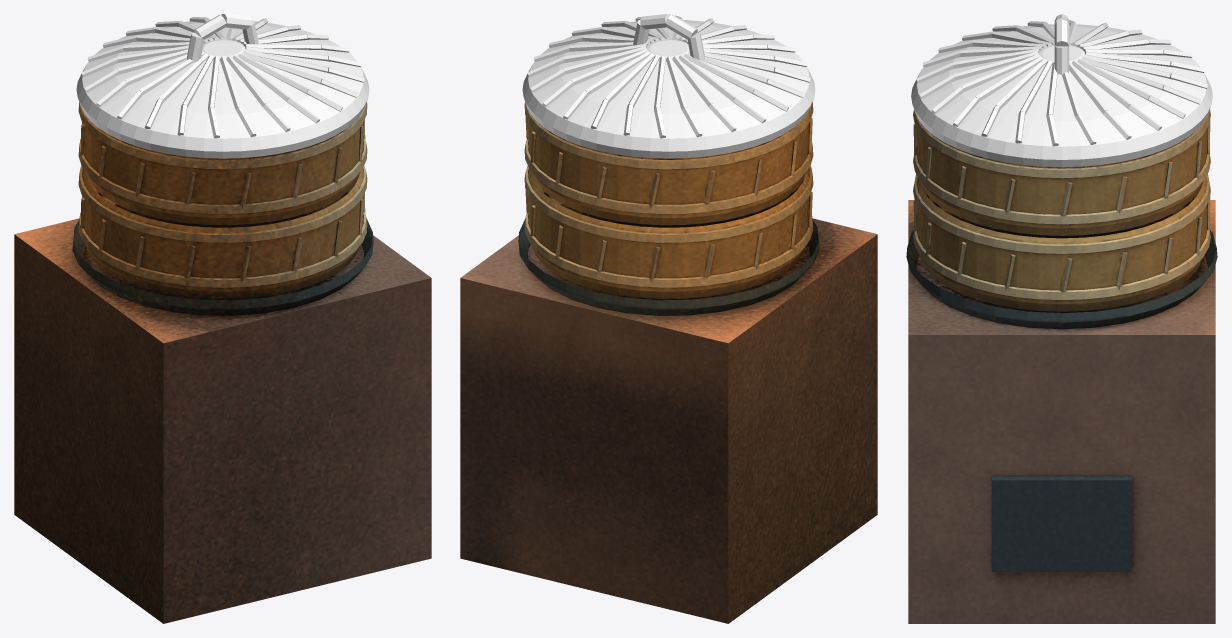
The model's file is steamer.glb.
3 views of the same model, side by side, from view 1: azimuth 30°, elevation 25°; view 2: azimuth 150°, elevation 25°; view 3: azimuth 270°, elevation 25° (orthographic). The views are drawn at different scales.
Parts seen in each view (by area): view 1: SteamerHearth, SteamerLid; view 2: SteamerHearth, SteamerLid; view 3: SteamerHearth, SteamerLid.
Part boxes in pixels (bbox=[...]): SteamerHearth: bbox=[14, 102, 431, 623]; SteamerLid: bbox=[76, 14, 369, 158]; SteamerHearth: bbox=[460, 102, 877, 623]; SteamerLid: bbox=[522, 14, 815, 158]; SteamerHearth: bbox=[906, 109, 1217, 623]; SteamerLid: bbox=[911, 14, 1212, 166].
Size of the model in its own units: 0.847 by 1.53 by 0.8.
Materials: 4 (1 with a texture image).
